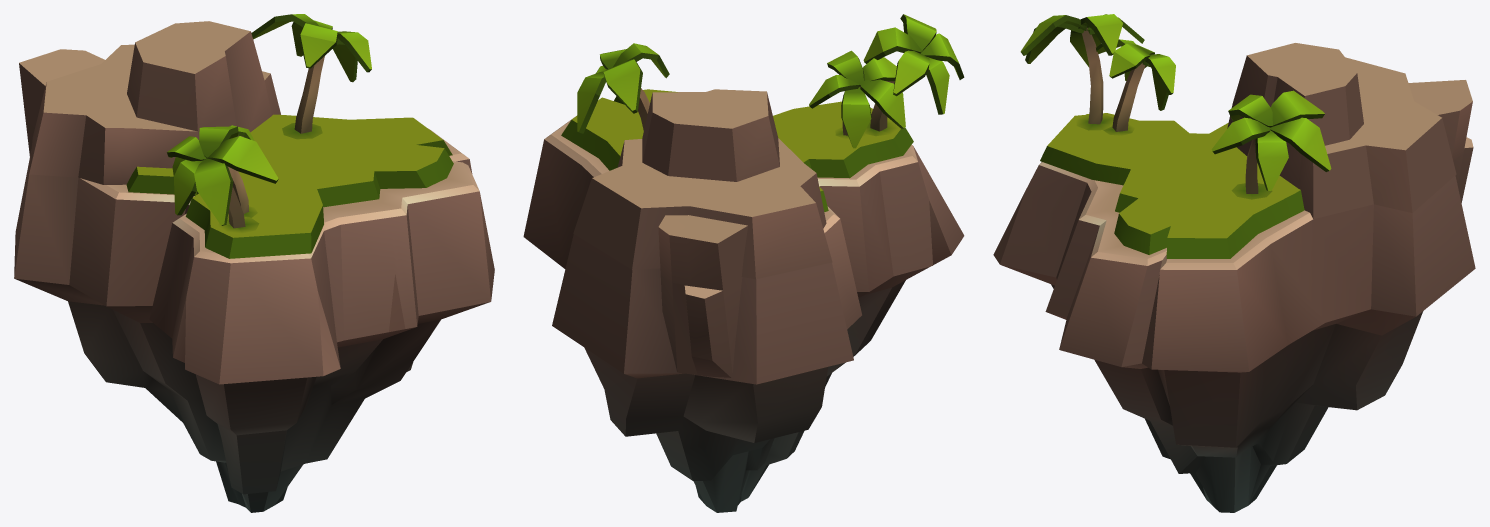
Rendered from Pirate_sml_Island_3.fbx.
The picture shows the model from 3 angles, left to right: view 1: azimuth 30°, elevation 25°; view 2: azimuth 150°, elevation 25°; view 3: azimuth 270°, elevation 25°; orthographic projection. The views are drawn at different scales.
Visible parts, largest first — view 1: Plane.010, Plane.023, Plane.022, Plane.057, Plane.056, Plane.058; view 2: Plane.010, Plane.023, Plane.022, Plane.057, Plane.058, Plane.056; view 3: Plane.010, Plane.023, Plane.022, Plane.056, Plane.057, Plane.058.
Boxes of the visible parts, <box> form: Plane.010: <box>14,128,494,512</box>; Plane.023: <box>19,21,280,184</box>; Plane.022: <box>126,114,453,258</box>; Plane.057: <box>167,126,278,233</box>; Plane.056: <box>251,14,371,139</box>; Plane.058: <box>172,125,257,217</box>; Plane.010: <box>523,120,964,512</box>; Plane.023: <box>573,89,832,377</box>; Plane.022: <box>561,89,913,211</box>; Plane.057: <box>863,14,964,136</box>; Plane.058: <box>809,50,905,148</box>; Plane.056: <box>577,43,669,133</box>; Plane.010: <box>993,162,1475,512</box>; Plane.023: <box>1227,43,1473,218</box>; Plane.022: <box>1040,113,1304,258</box>; Plane.056: <box>1211,90,1331,199</box>; Plane.057: <box>1020,14,1144,130</box>; Plane.058: <box>1096,39,1175,135</box>.
Size of the model in its own units: 33.54 by 38.17 by 37.97.
